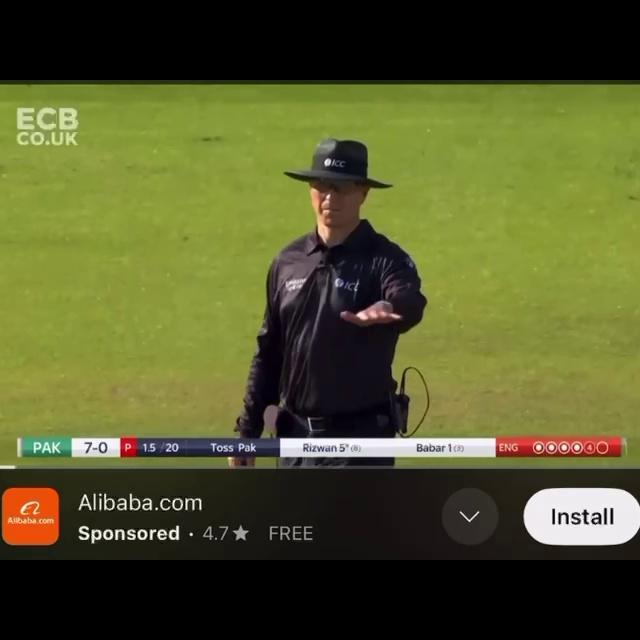umpire: (185, 111, 484, 436)
